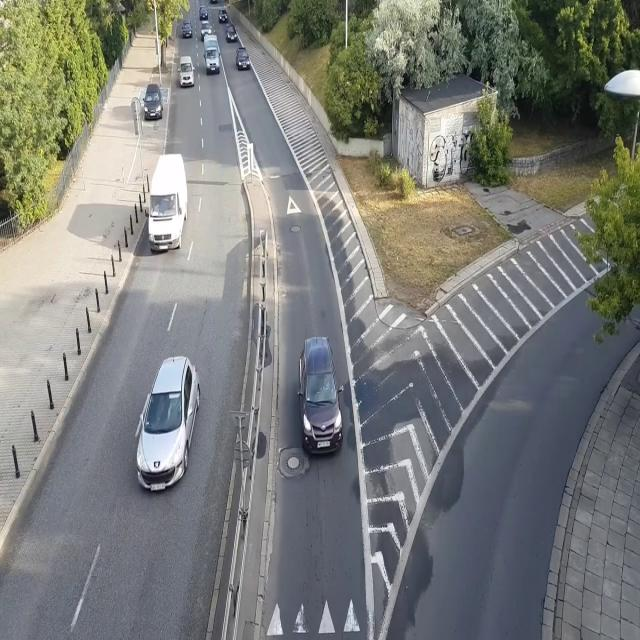car: (136, 355, 202, 494), (297, 337, 345, 457), (143, 84, 163, 120), (177, 56, 195, 88), (235, 47, 251, 72), (225, 23, 238, 43), (200, 20, 212, 41), (182, 19, 193, 39), (218, 8, 228, 24), (199, 6, 208, 20)
truck: (203, 35, 221, 75)
van: (144, 154, 188, 253)
